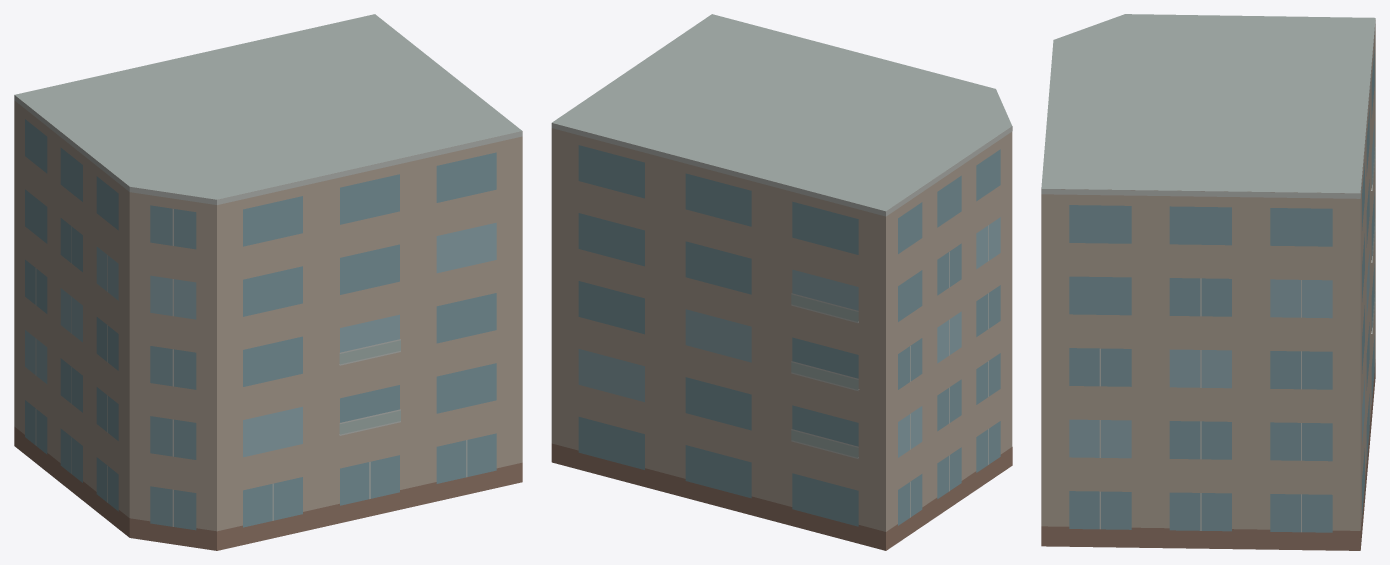
File: survey-upis-32659755.glb
The picture shows the model from 3 angles, left to right: view 1: azimuth 30°, elevation 25°; view 2: azimuth 150°, elevation 25°; view 3: azimuth 270°, elevation 25°; orthographic projection. The views are drawn at different scales.
Visible parts, largest first — view 1: survey-upis-32659755.tmp; view 2: survey-upis-32659755.tmp; view 3: survey-upis-32659755.tmp.
Boxes of the visible parts, x1,y1,x2,y2 form: survey-upis-32659755.tmp: (14, 14, 522, 550); survey-upis-32659755.tmp: (551, 14, 1012, 550); survey-upis-32659755.tmp: (1041, 14, 1375, 550).
Size of the model in its own units: 17.01 by 15.8 by 13.4.
